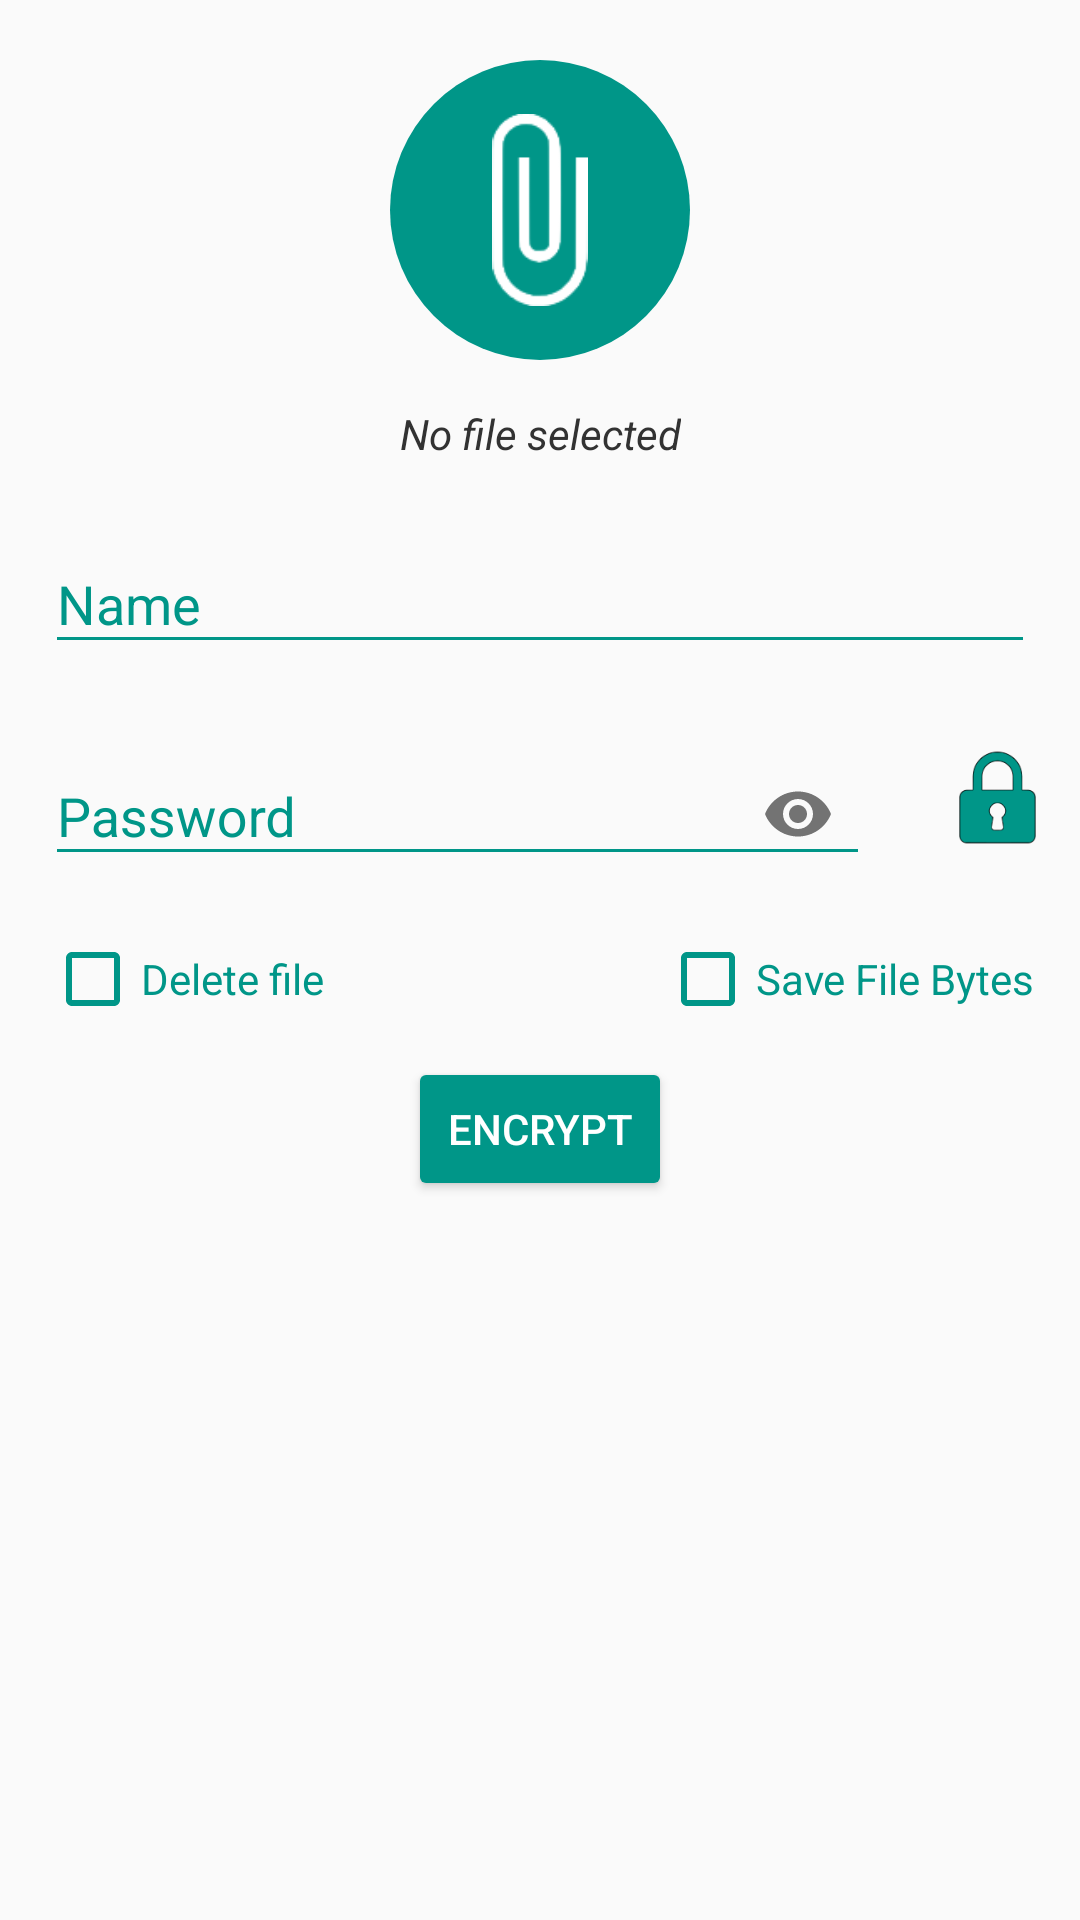

Screen size 1080w x 1920h. Icon name, then its center in pixels as [x,y]:
Select file: [540,210]
